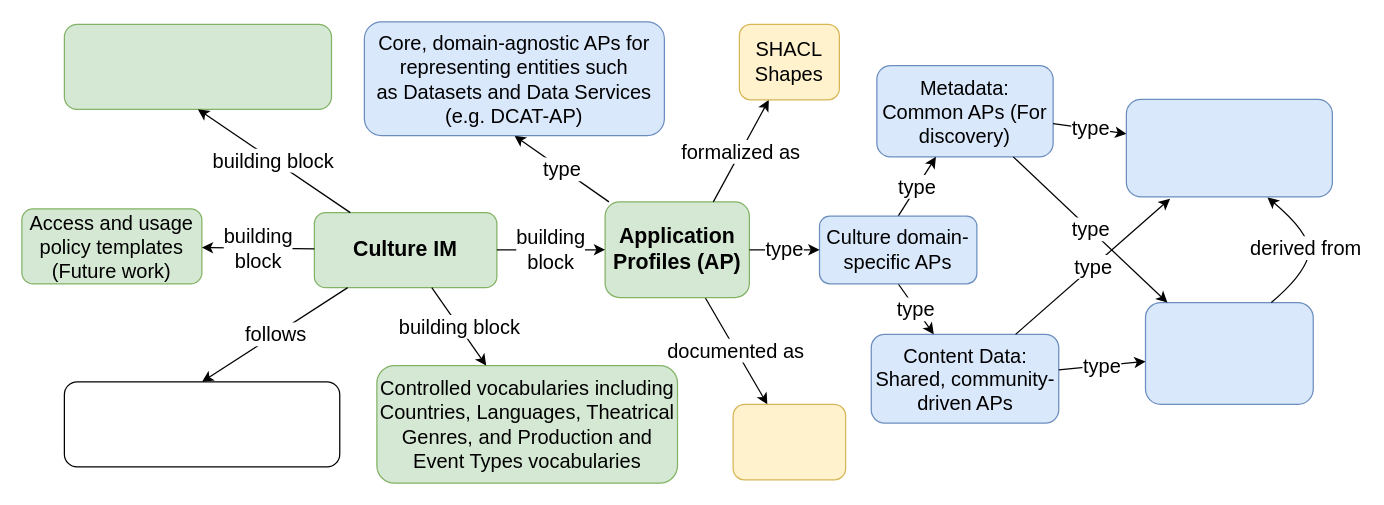
Image size: 1384x505. Some labels were removed from this diagram. The centre of each missing label's shape, as x and y in pixels:
General AP (GAP) for the Theater Use Case from the DRK project: (1228,147)
New and existing ontologies including the Culture Ontology and Schema.org: (197,66)
ReSpec-style Documents: (789,441)
Specific AP (SAP) for a particular theater organization: (1228,352)
Technical and governance best practices such as adherence to FAIR principles: (201,424)
